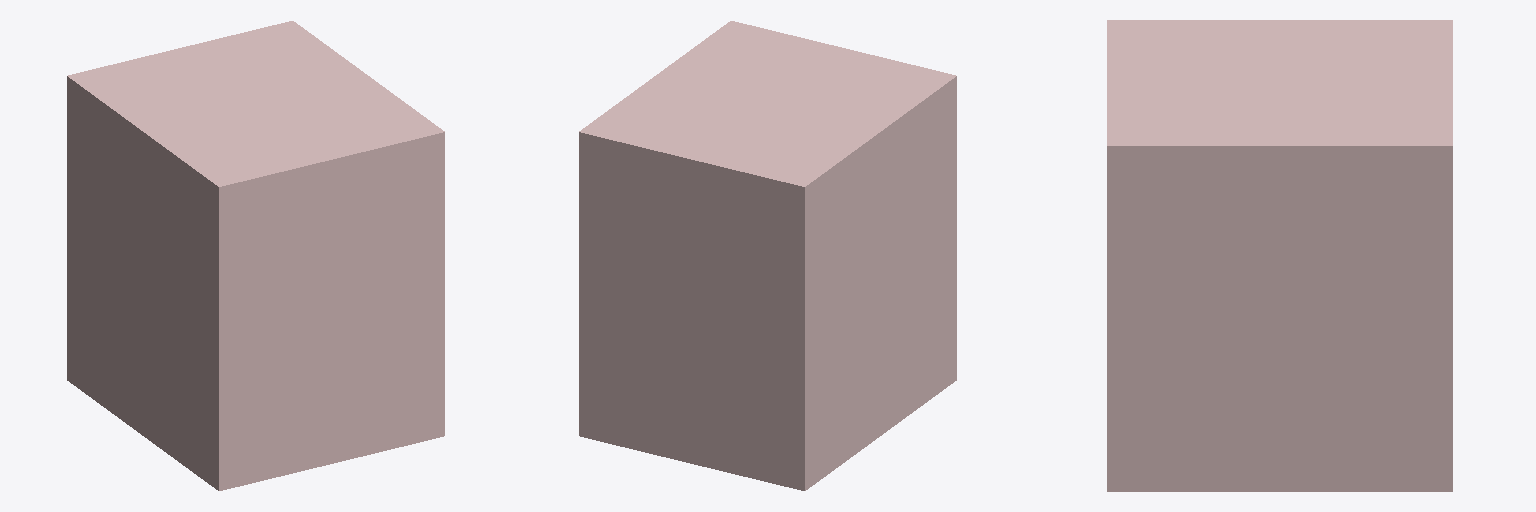
The robot description file, URDF, robot "box.urdf":
<?xml version="1.0" ?>
<robot name="box.urdf">
  <link name="baseLink">
    <contact>
      <lateral_friction value="1.0"/>
      <rolling_friction value="0.0001"/>
      <inertia_scaling value="3.0"/>
    </contact>
    <inertial>
      <origin rpy="0 0 0" xyz="0 0 0"/>
       <mass value="0.1"/>
       <inertia ixx="1" ixy="0" ixz="0" iyy="1" iyz="0" izz="1"/>
    </inertial>
    <visual>
      <origin rpy="0 0 0" xyz="0 0 0"/>
      <geometry>
        <!-- <box size="0.21100000000000002 0.24600000000000002 0.271"/> -->
        <mesh filename="box/box.obj" scale="0.21100000000000002 0.24600000000000002 0.271"/>
      </geometry>
      <material name="white">
        <color rgba="0.9 0.8 0.8 1"/>
      </material>
    </visual>
    <collision>
      <origin rpy="0 0 0" xyz="0 0 0"/>
      <geometry>
        <mesh filename="box/box.obj" scale="0.21100000000000002 0.24600000000000002 0.271"/>
	 	    <!-- <box size="0.21100000000000002 0.24600000000000002 0.271"/> -->
      </geometry>
    </collision>
  </link>
</robot>

--- What the picture shows (computed from the rendered views, not written in the file) ---
Views: 3 orthographic renders of the robot side by side, from view 1: azimuth 30°, elevation 25°; view 2: azimuth 150°, elevation 25°; view 3: azimuth 270°, elevation 25°.
Model box.urdf with 1 links and 0 joints (none), rooted at baseLink, posed all joints at 0.
Links seen in each view (by area): view 1: baseLink; view 2: baseLink; view 3: baseLink.
Link boxes in pixels (x1,y1,x2,y2): baseLink: (67,21,444,490); baseLink: (579,21,956,490); baseLink: (1107,20,1452,491).
Bounding box of the posed robot: 0.211 × 0.246 × 0.271 m (x, y, z).
1 mesh visuals loaded from 1 distinct referenced files (1 OBJ).
